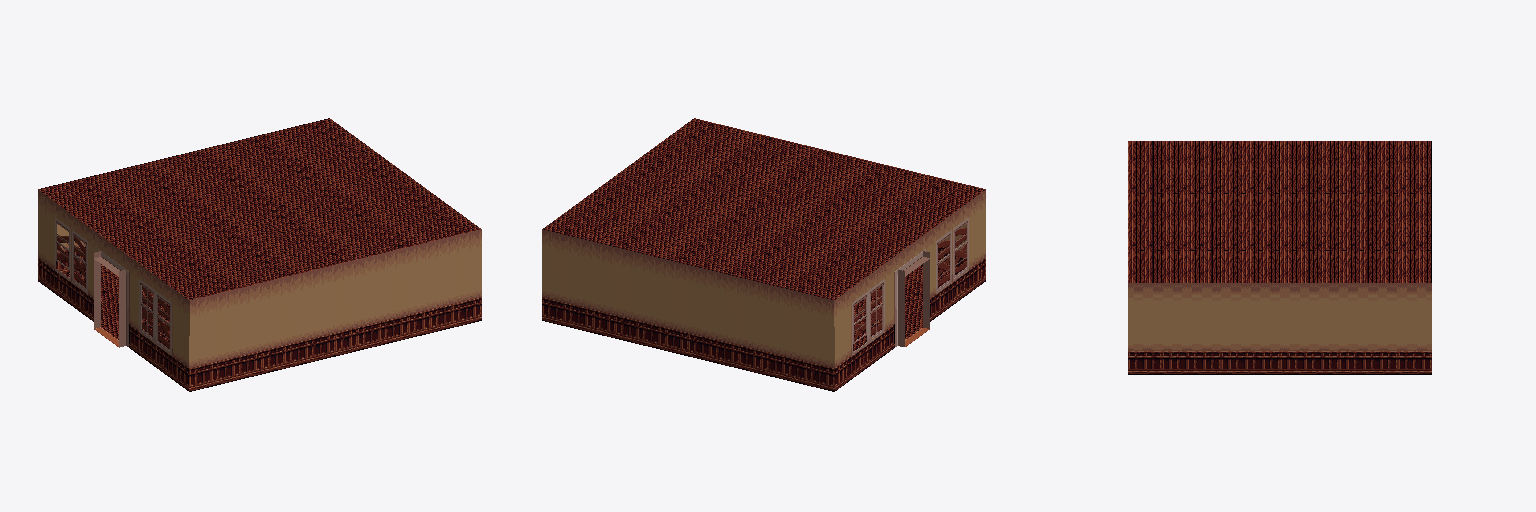
3 views of the same model, side by side, from view 1: azimuth 30°, elevation 25°; view 2: azimuth 150°, elevation 25°; view 3: azimuth 270°, elevation 25° (orthographic).
Parts seen in each view (by area): view 1: Default; view 2: Default; view 3: Default.
Part boxes in pixels (x1,y1,x2,y2): Default: (38, 118, 481, 391); Default: (542, 118, 985, 391); Default: (1128, 141, 1431, 374).
Size of the model in its own units: 6.56 by 1.92 by 5.76.
Materials: 1 (1 with a texture image).